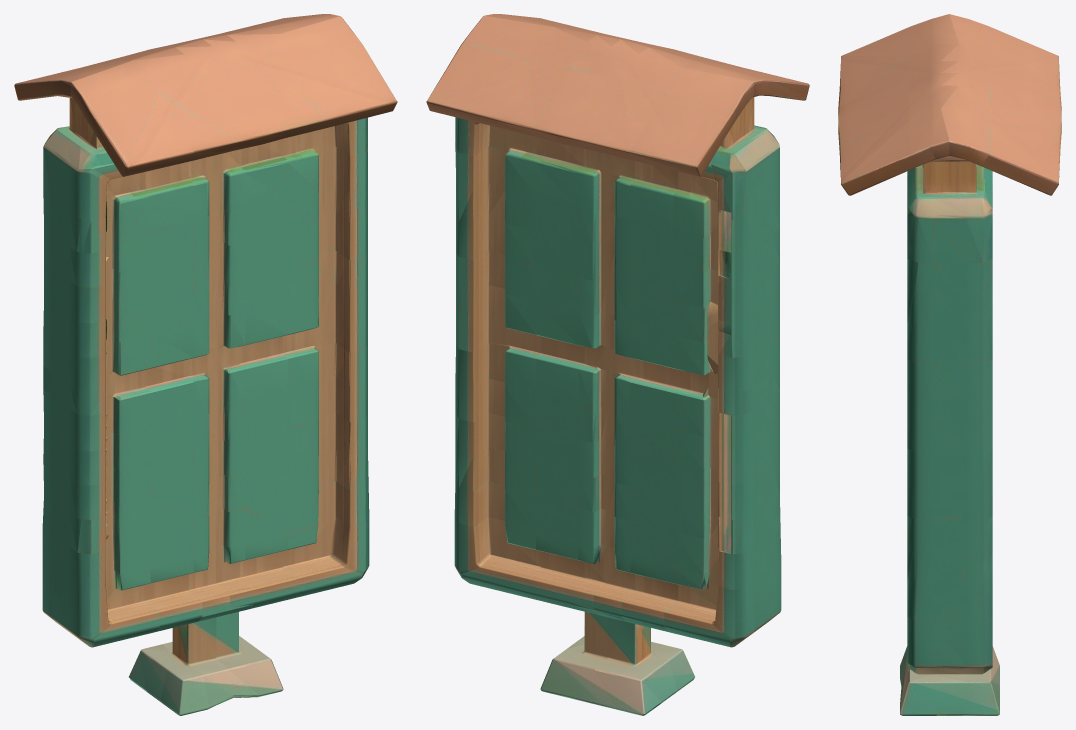
File: prop_job_kiosk_01.glb
The picture shows the model from 3 angles, left to right: view 1: azimuth 30°, elevation 25°; view 2: azimuth 150°, elevation 25°; view 3: azimuth 270°, elevation 25°; orthographic projection. The views are drawn at different scales.
Size of the model in its own units: 0.9041 by 1.91 by 0.6223.
Materials: 1 (1 with a texture image).
